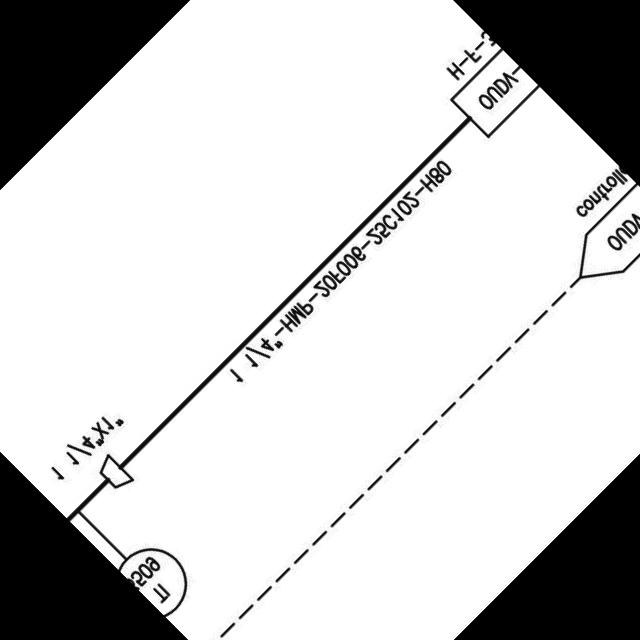SP: (90, 449, 138, 498)
